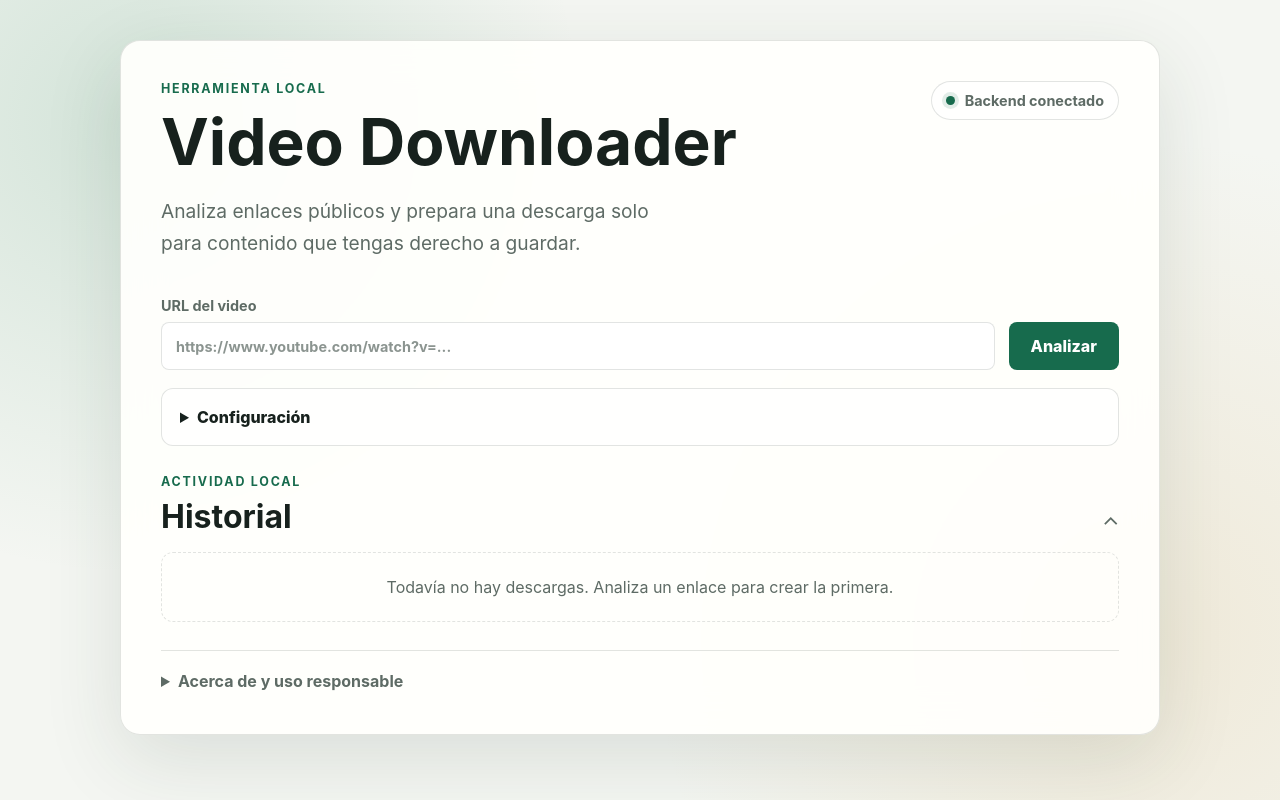
Scenario: App › loads and changes the download directory with the native chooser
Click the heading "Configuración" at (254, 417), box [197,407,310,427]
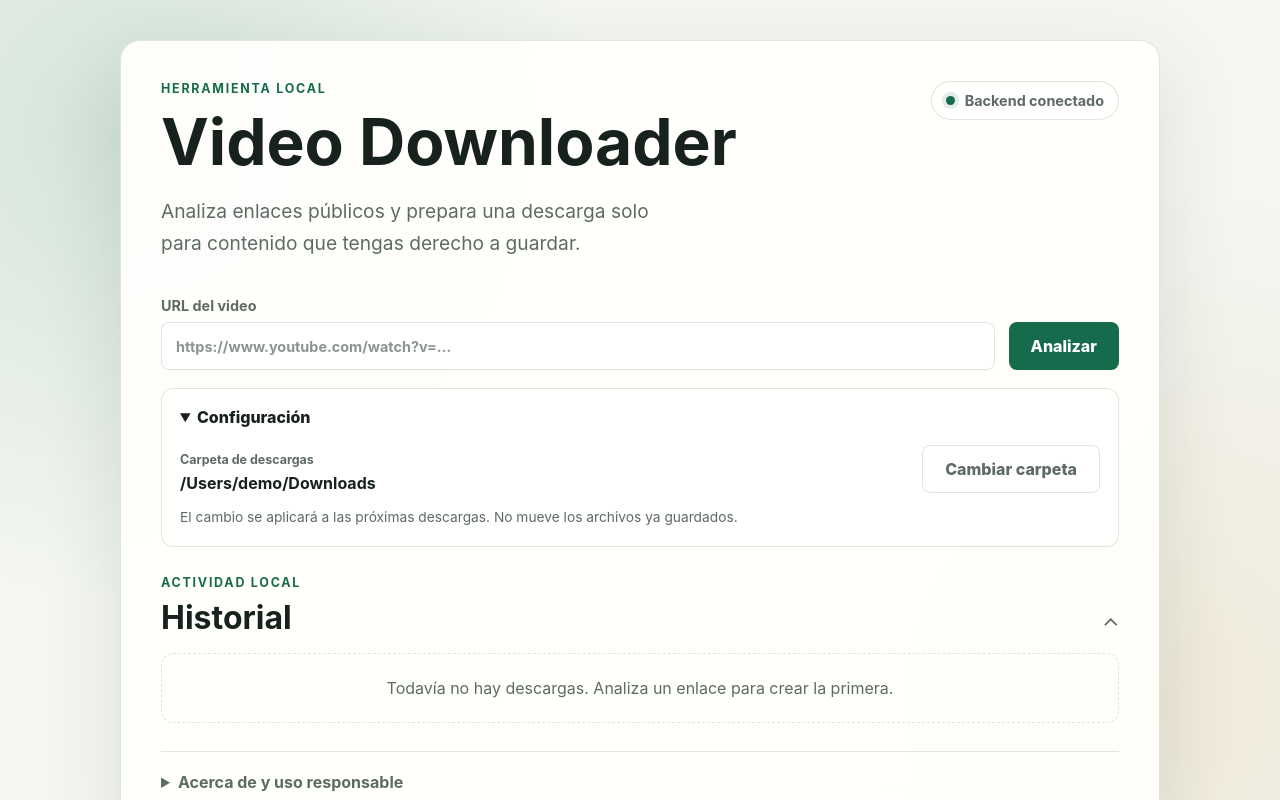
expect the text "/Users/demo/Downloads" is shown: met, box [180,473,376,493]
Click the button "Cambiar carpeta" at (1011, 469), box [922,445,1100,493]
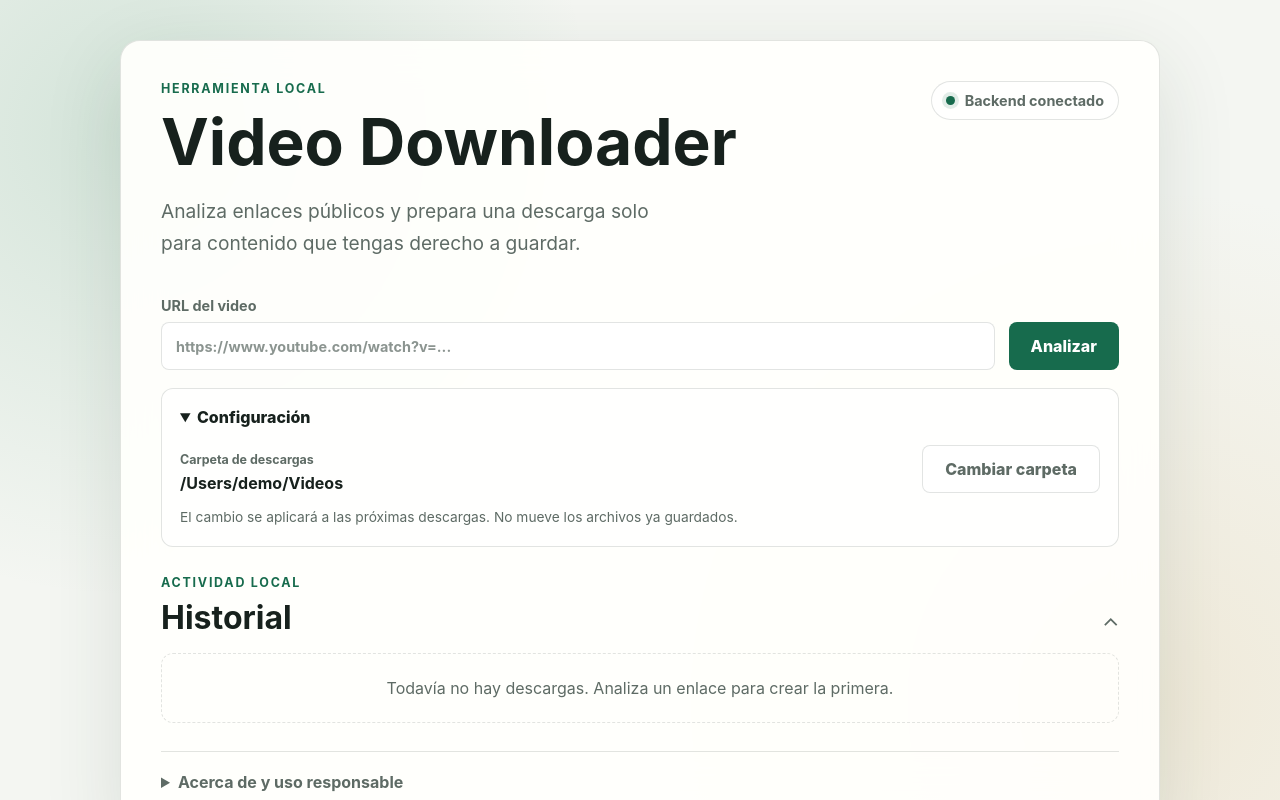
expect the text "/Users/demo/Videos" is shown: met, box [180,473,343,493]
